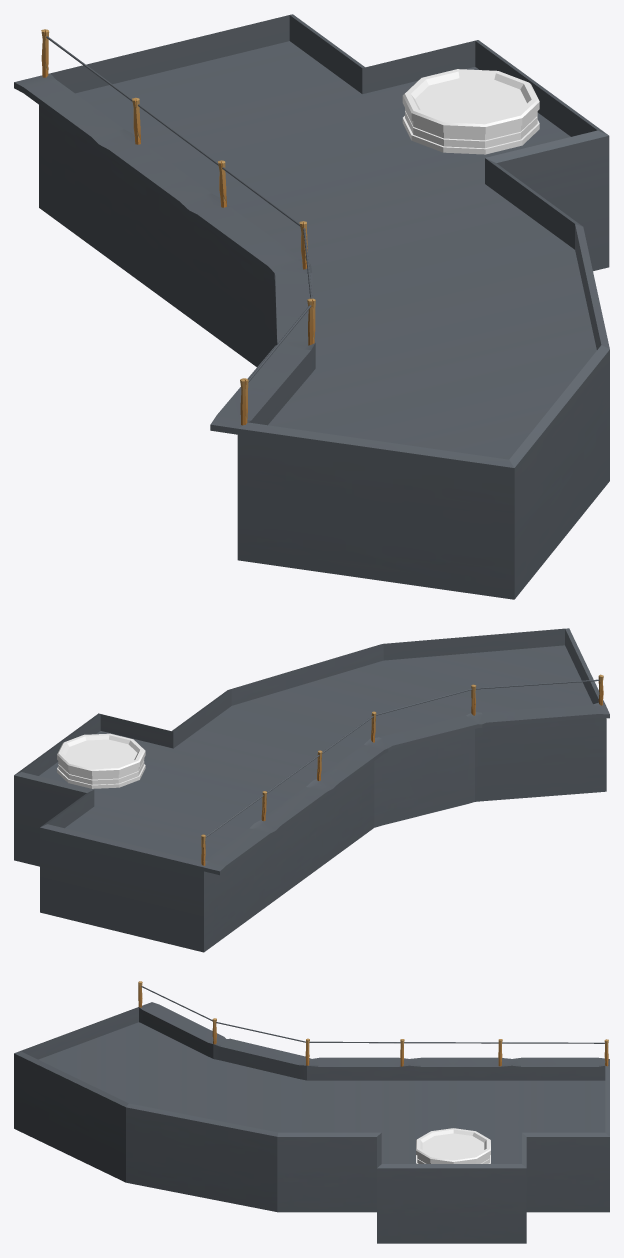
Rendered from zonaGrande.fbx.
The picture shows the model from 3 angles, top to bottom: view 1: azimuth 30°, elevation 25°; view 2: azimuth 150°, elevation 25°; view 3: azimuth 270°, elevation 25°; orthographic projection. The views are drawn at different scales.
Visible parts, largest first — view 1: group122; view 2: group122; view 3: group122.
Boxes of the visible parts, left/top/right/bottom form: group122: left=14, top=14, right=609, bottom=599; group122: left=14, top=628, right=609, bottom=952; group122: left=14, top=981, right=609, bottom=1243.
Bounding box in the file's own units: 7839 × 2259 × 11875.
